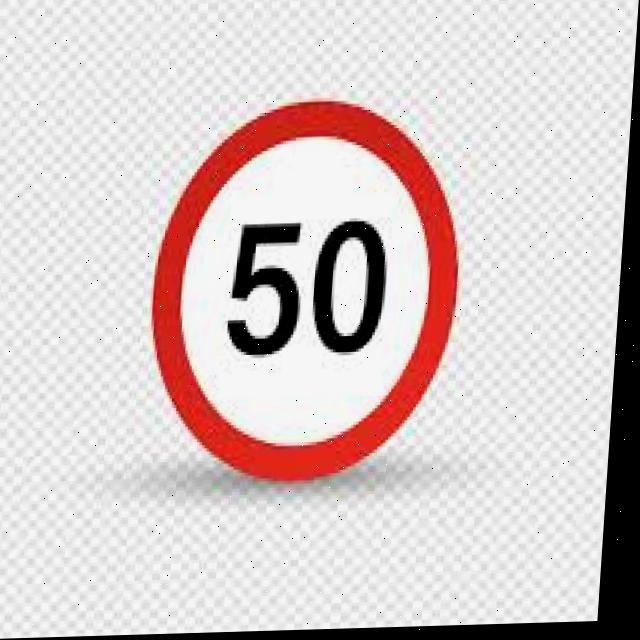Speed limit 50: (141, 92, 478, 490)
